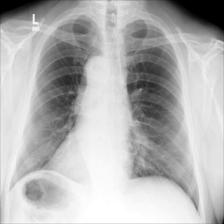normal: (10, 12, 201, 210)
